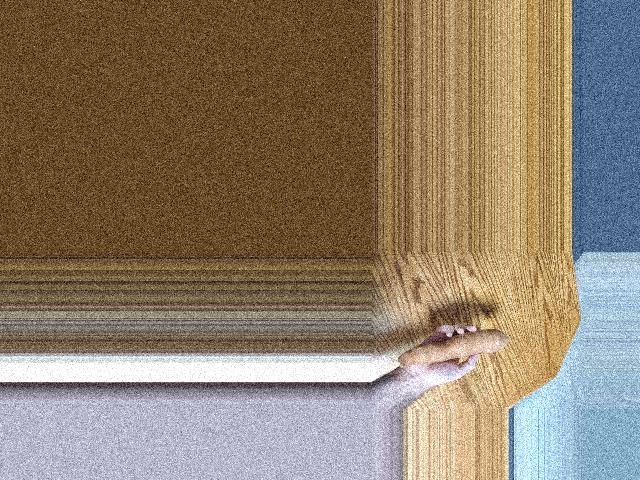sweet_potato: (404, 323, 513, 371)
